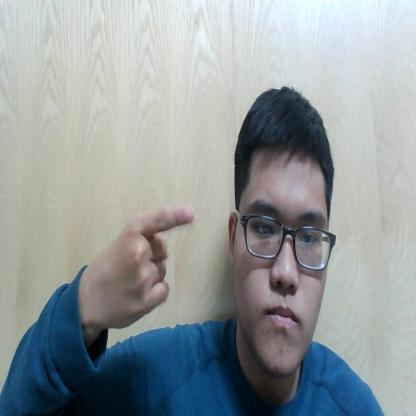left: (93, 202, 199, 320)
